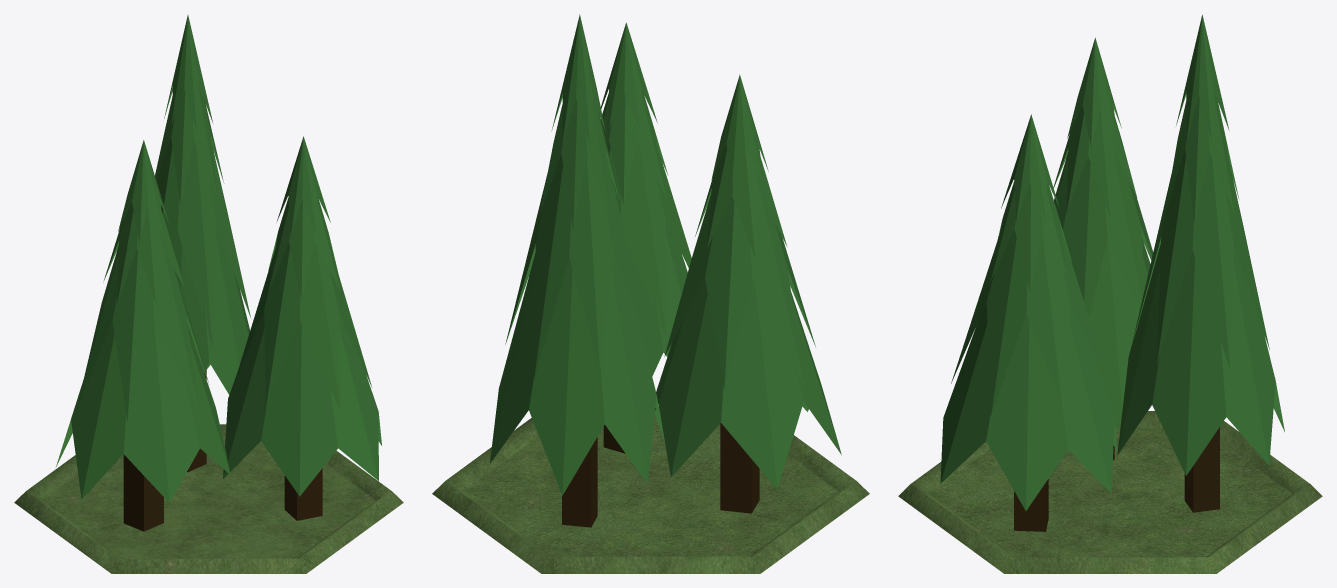
The model's file is forest.glb.
The picture shows the model from 3 angles, left to right: view 1: azimuth 30°, elevation 25°; view 2: azimuth 150°, elevation 25°; view 3: azimuth 270°, elevation 25°; orthographic projection. The views are drawn at different scales.
Parts seen in each view (by area): view 1: Tree.001, Tree.005, HexagonTile.003, Tree.004; view 2: Tree.004, Tree.001, HexagonTile.003, Tree.005; view 3: Tree.004, Tree.005, HexagonTile.003, Tree.001.
Part boxes in pixels (x1,y1,x2,y2): Tree.001: (55, 140, 231, 531); Tree.005: (223, 136, 381, 520); HexagonTile.003: (14, 424, 403, 573); Tree.004: (155, 15, 250, 472); Tree.004: (490, 14, 664, 527); Tree.001: (655, 74, 841, 513); HexagonTile.003: (432, 407, 869, 573); Tree.005: (600, 22, 691, 453); Tree.004: (1117, 14, 1284, 512); Tree.005: (940, 114, 1117, 531); HexagonTile.003: (898, 411, 1322, 573); Tree.001: (1053, 37, 1153, 460).
Size of the model in its own units: 1.75 by 2.59 by 2.
Materials: 3 (1 with a texture image).
